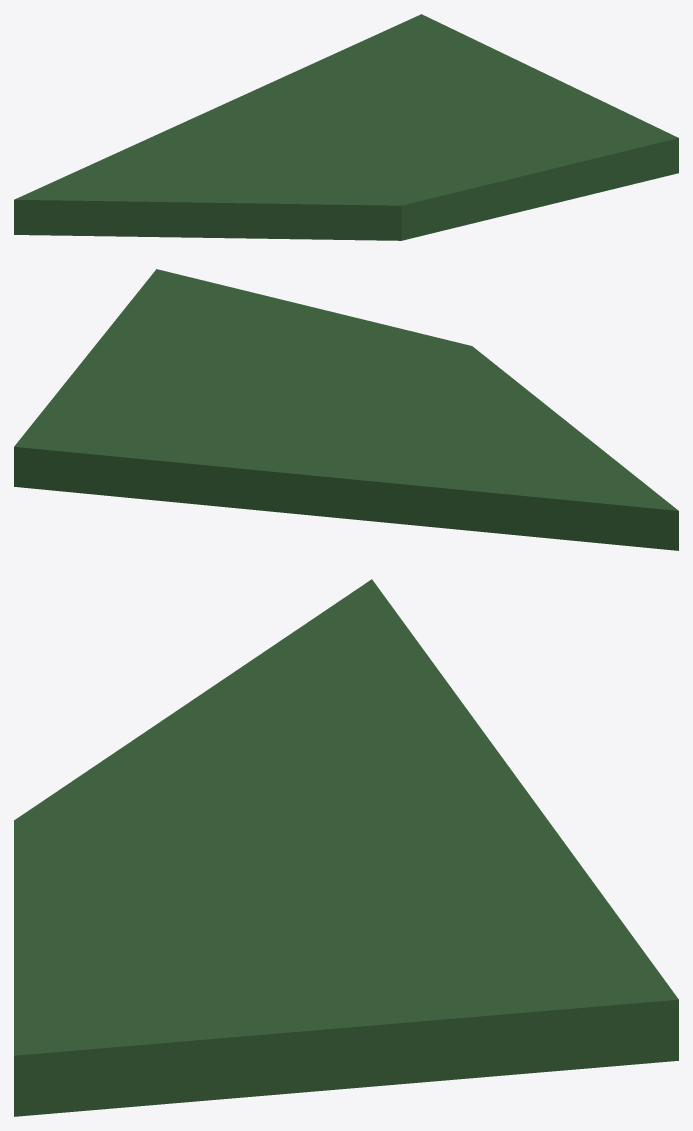
File: x_proval_00_202_1_rmstrd.fbx
The picture shows the model from 3 angles, top to bottom: view 1: azimuth 30°, elevation 25°; view 2: azimuth 150°, elevation 25°; view 3: azimuth 270°, elevation 25°; orthographic projection. The views are drawn at different scales.
Visible parts, largest first — view 1: x_proval_00_202_1_rmstrd1; view 2: x_proval_00_202_1_rmstrd1; view 3: x_proval_00_202_1_rmstrd1.
Part boxes in pixels (<box>): x_proval_00_202_1_rmstrd1: <box>14,14,678,240</box>; x_proval_00_202_1_rmstrd1: <box>14,269,678,550</box>; x_proval_00_202_1_rmstrd1: <box>14,579,678,1116</box>.
Bounding box in the file's own units: 3.34 × 0.2 × 1.97.
